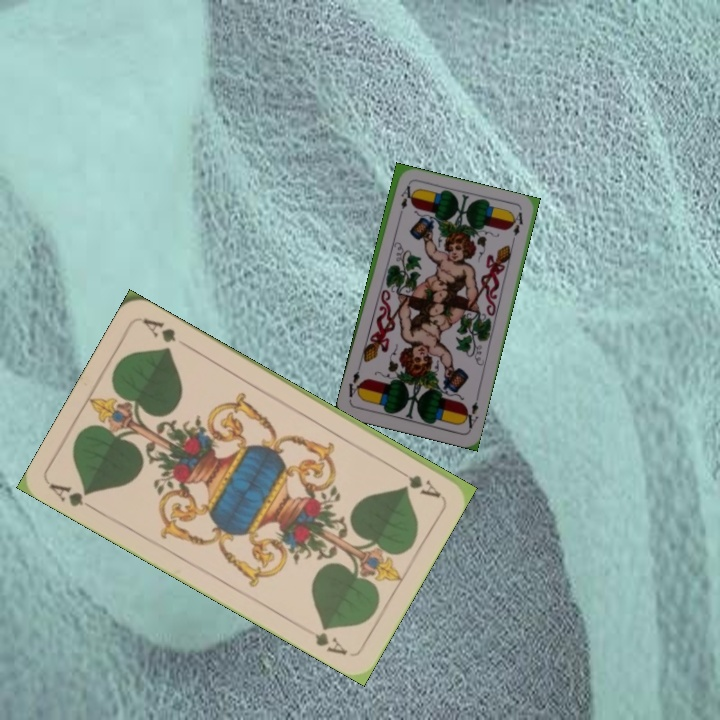EA: (459, 392, 481, 432), (395, 181, 413, 221)
GA: (391, 462, 443, 501), (45, 479, 100, 515)
